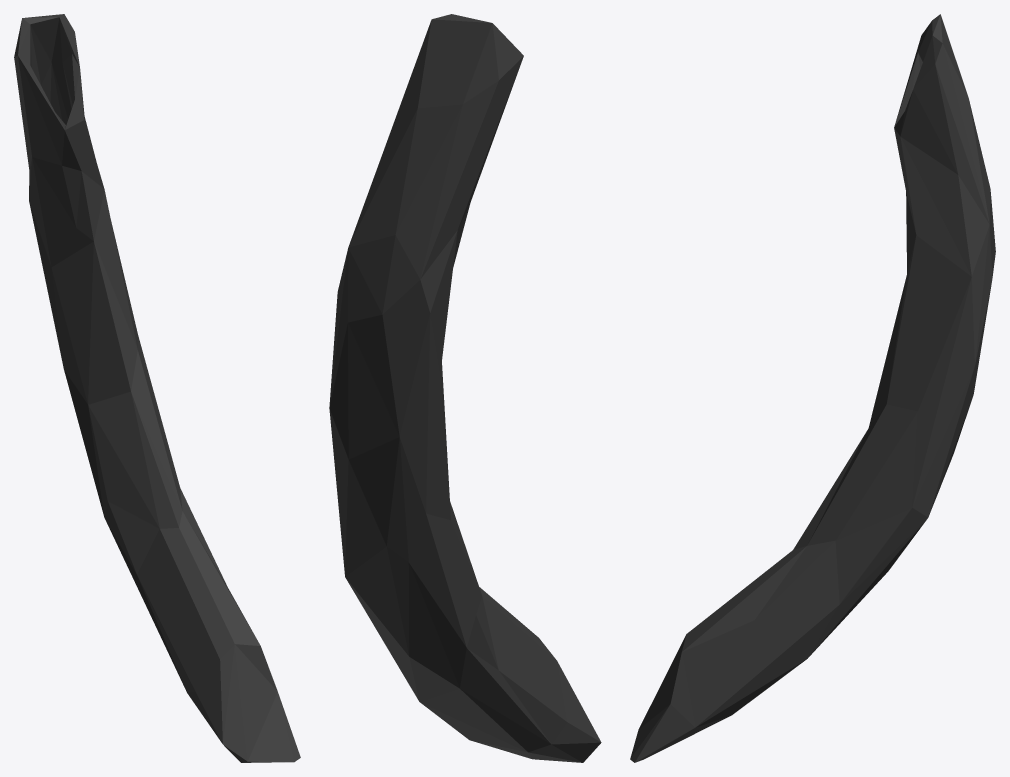
3 views of the same model, side by side, from view 1: azimuth 30°, elevation 25°; view 2: azimuth 150°, elevation 25°; view 3: azimuth 270°, elevation 25° (orthographic). The views are drawn at different scales.
Visible parts, largest first — view 1: world; view 2: world; view 3: world.
Part boxes in pixels (left/top/right/bottom): world: left=14, top=14, right=300, bottom=762; world: left=329, top=14, right=601, bottom=762; world: left=630, top=14, right=995, bottom=762.
Bounding box in the file's own units: 0.1615 × 0.7004 × 0.3377.
Materials: 1 (1 with a texture image).
